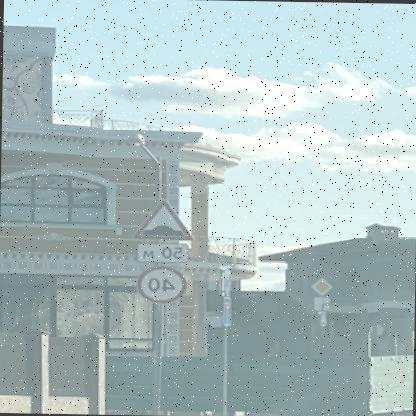speedlimit: (138, 264, 189, 302)
